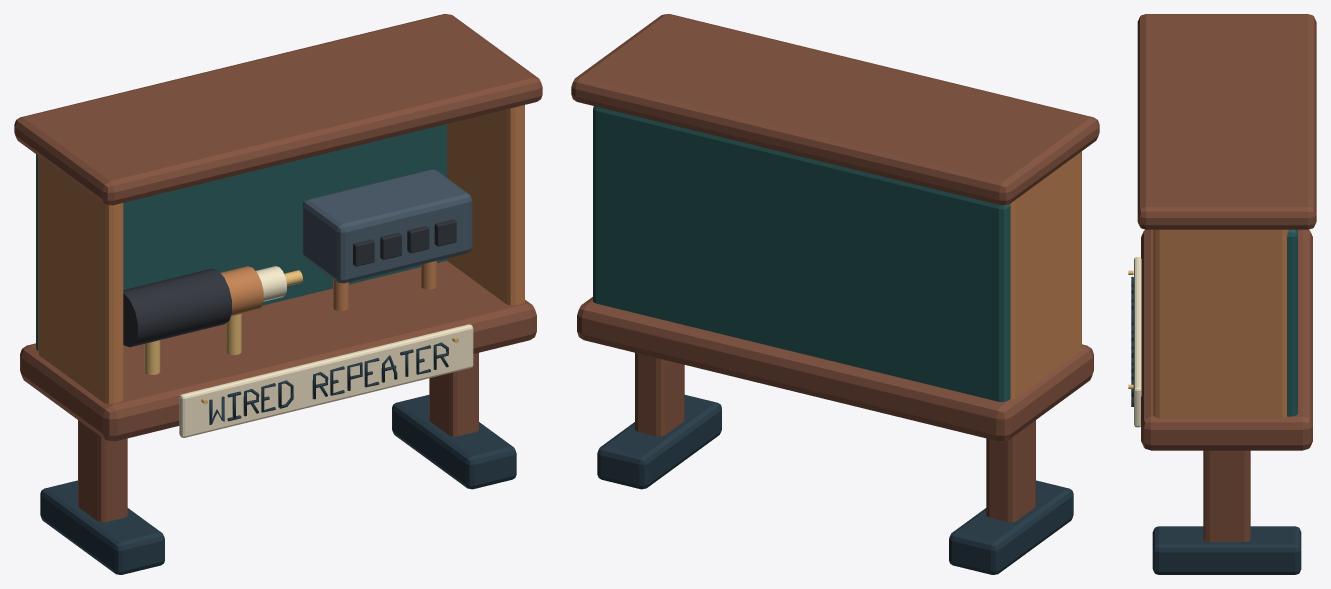
The picture shows the model from 3 angles, left to right: view 1: azimuth 30°, elevation 25°; view 2: azimuth 150°, elevation 25°; view 3: azimuth 270°, elevation 25°; orthographic projection. The views are drawn at different scales.
Visible parts, largest first — view 1: PR036 workshop surfaces; view 2: PR036 workshop surfaces; view 3: PR036 workshop surfaces.
Boxes of the visible parts, <box> form: PR036 workshop surfaces: <box>14,14,542,574</box>; PR036 workshop surfaces: <box>571,14,1099,574</box>; PR036 workshop surfaces: <box>1128,14,1316,574</box>.
Size of the model in its own units: 1.38 by 1.21 by 0.55.
